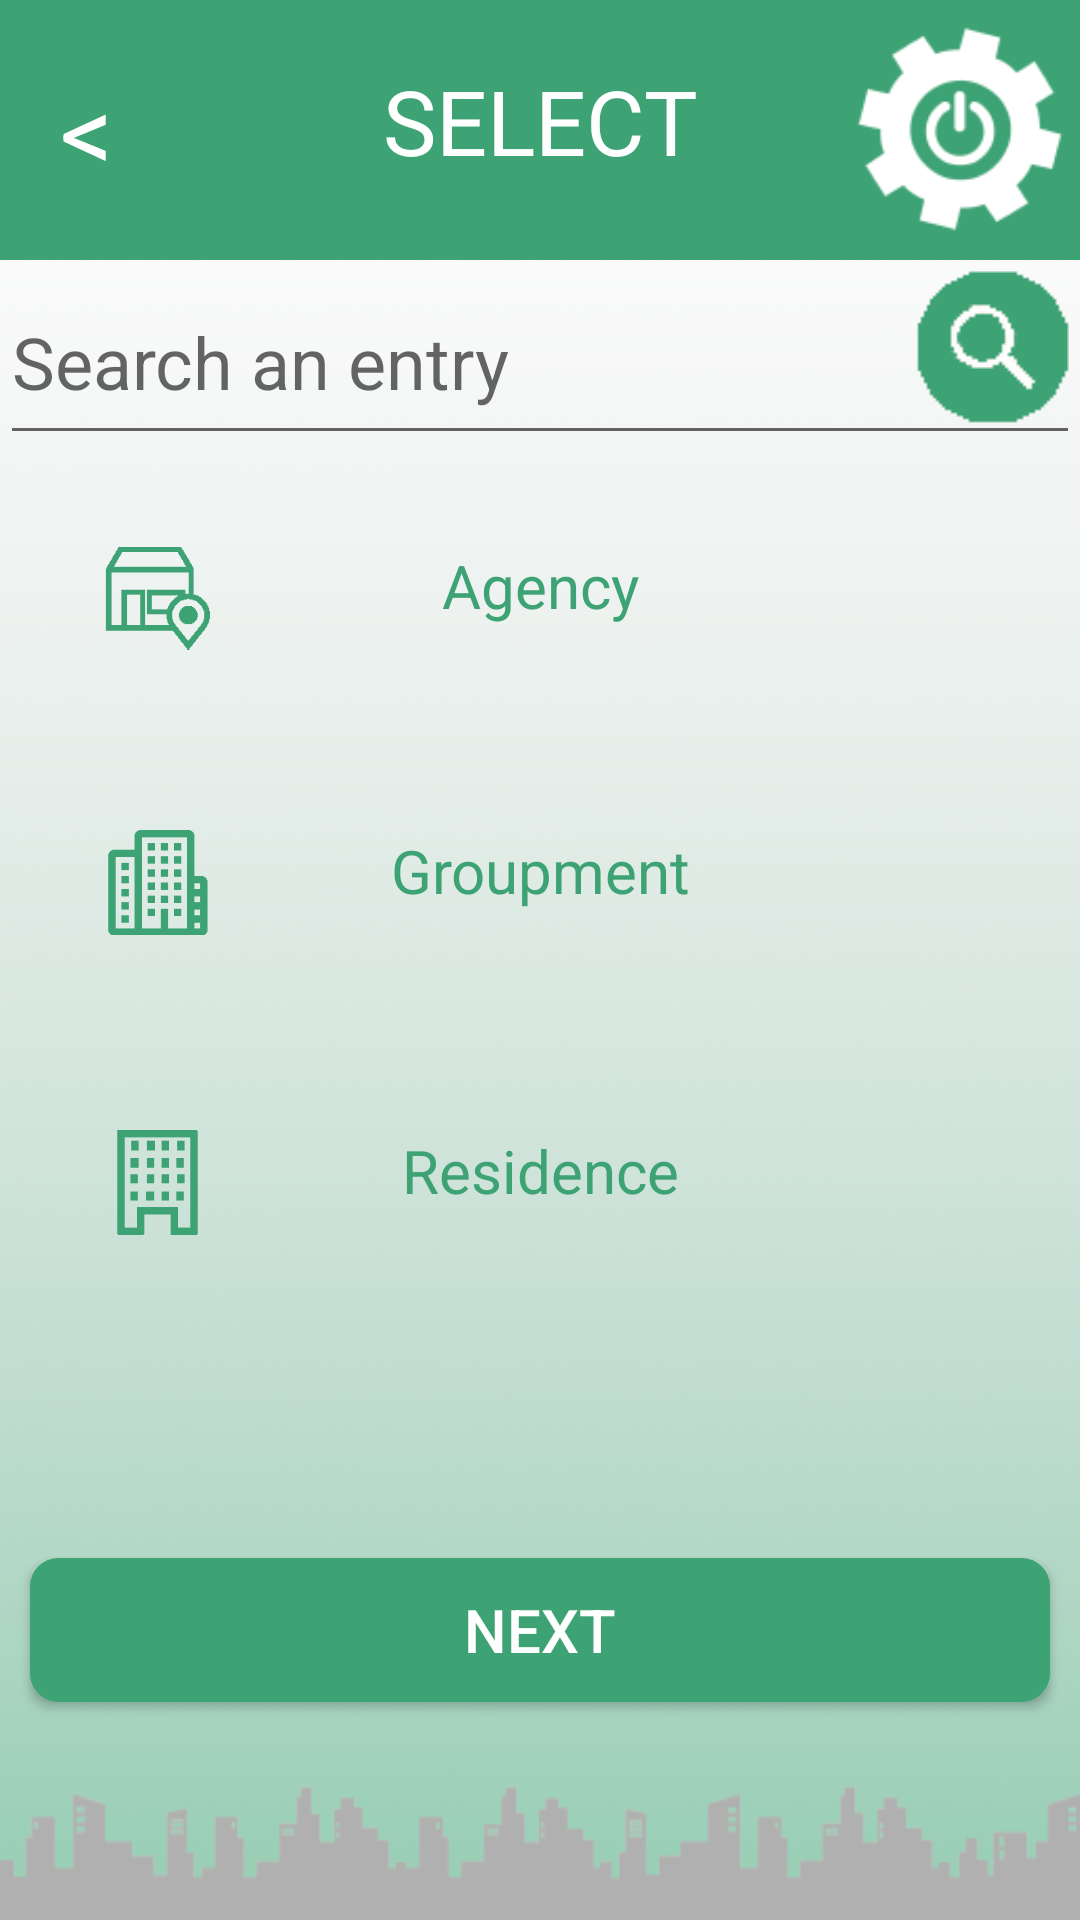

Icon click points for this 1080 x 1920 phone screenshot, format point (x, y):
agence: point (158, 598)
groupement residences: point (158, 882)
loupe: point (993, 347)
